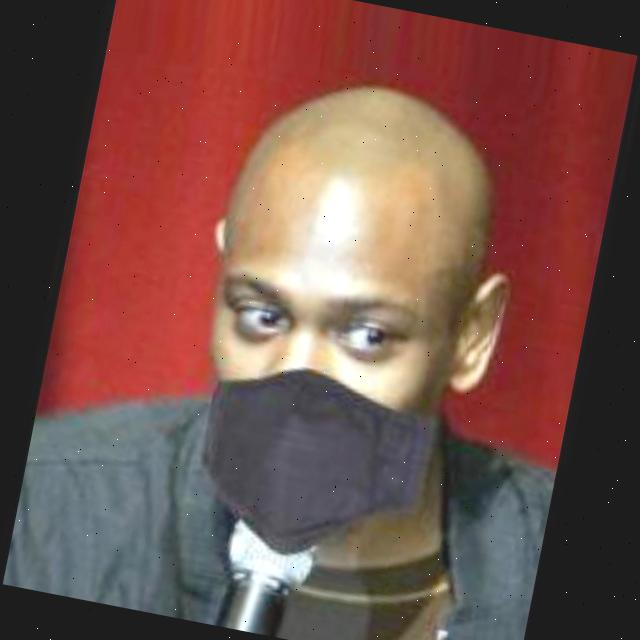suspicion: (156, 47, 558, 560)
